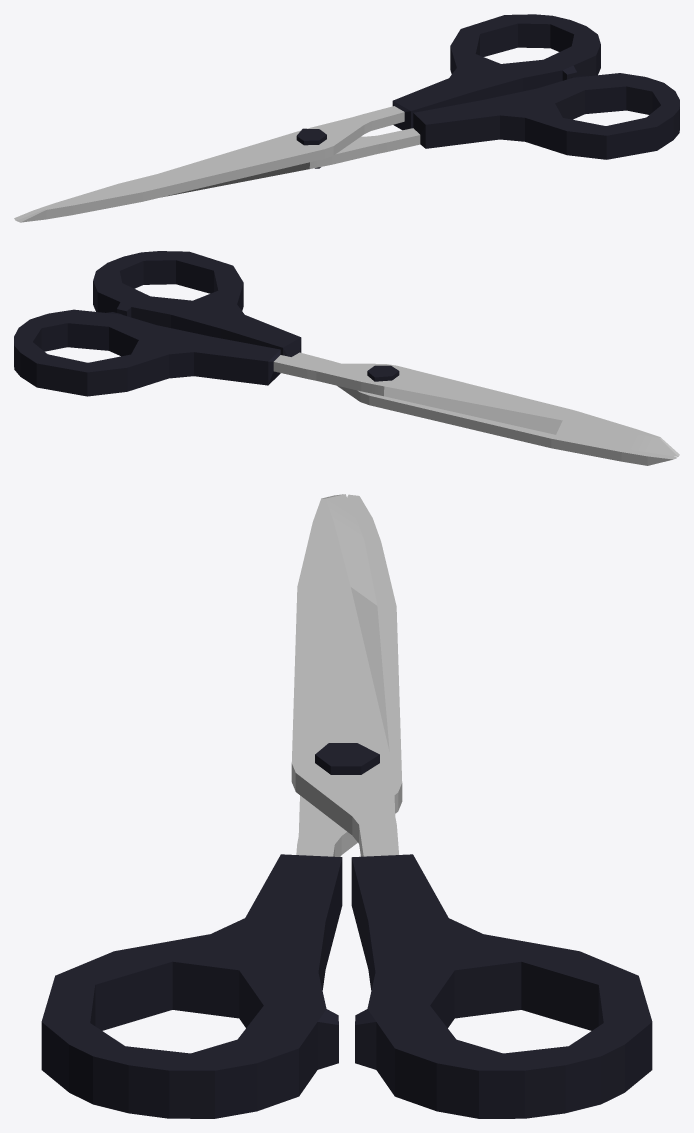
The model's file is Scissors_Source.gltf.
The picture shows the model from 3 angles, top to bottom: view 1: azimuth 30°, elevation 25°; view 2: azimuth 150°, elevation 25°; view 3: azimuth 270°, elevation 25°; orthographic projection. The views are drawn at different scales.
Visible parts, largest first — view 1: Scissor_black_B, Scissor_black_A; view 2: Scissor_black_B, Scissor_black_A; view 3: Scissor_black_B, Scissor_black_A.
Boxes of the visible parts, <box> form: Scissor_black_B: <box>16,14,600,222</box>; Scissor_black_A: <box>14,73,679,220</box>; Scissor_black_B: <box>14,309,679,456</box>; Scissor_black_A: <box>93,251,677,465</box>; Scissor_black_B: <box>291,494,652,1118</box>; Scissor_black_A: <box>41,494,402,1118</box>.
Size of the model in its own units: 6.13 by 0.2665 by 2.63.
2 materials, 2 textured.
